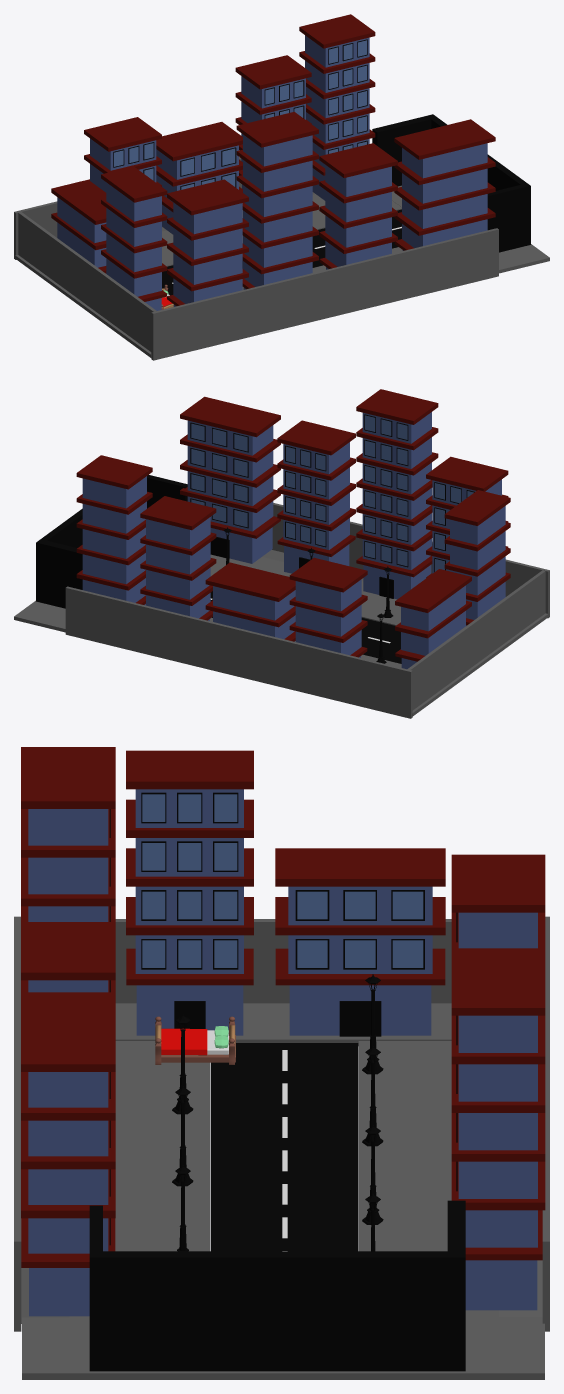
The model's file is street.fbx.
The picture shows the model from 3 angles, top to bottom: view 1: azimuth 30°, elevation 25°; view 2: azimuth 150°, elevation 25°; view 3: azimuth 270°, elevation 25°; orthographic projection. The views are drawn at different scales.
Parts seen in each view (by area): view 1: road.006, Plane.015, Plane.011, Plane.008, Plane.017, Plane.013, Plane.024, road.005, Plane.004, Plane.019, Plane.003, Plane.006 (+6 smaller); view 2: road.007, Plane.015, Plane.011, Plane.008, Plane.013, Plane.003, road.005, Plane.006, Plane.024, Plane.004, Plane.026, Plane.019 (+9 smaller); view 3: Plane.019, road, Plane.024, Plane.008, Plane.011, Plane.026, road.001, road.002, Plane.015, road.003, Plane.025, Plane.006 (+11 smaller).
Part boxes in pixels (<box>): road.006: <box>151,228,498,360</box>; Plane.015: <box>236,111,318,286</box>; Plane.011: <box>394,119,495,248</box>; Plane.008: <box>299,14,375,168</box>; Plane.017: <box>167,179,248,303</box>; Plane.013: <box>319,143,397,266</box>; Plane.024: <box>101,166,167,296</box>; road.005: <box>18,211,156,351</box>; Plane.004: <box>156,122,242,202</box>; Plane.019: <box>372,114,530,252</box>; Plane.003: <box>235,55,311,170</box>; Plane.006: <box>84,117,161,196</box>; road.007: <box>65,586,412,718</box>; Plane.015: <box>356,389,438,570</box>; Plane.011: <box>180,396,280,531</box>; Plane.008: <box>76,455,152,602</box>; Plane.013: <box>277,420,355,549</box>; Plane.003: <box>140,496,216,618</box>; road.005: <box>407,570,545,710</box>; Plane.006: <box>289,557,367,655</box>; Plane.024: <box>444,490,510,619</box>; Plane.004: <box>205,562,295,638</box>; Plane.026: <box>395,569,471,655</box>; Plane.019: <box>36,475,187,608</box>; Plane.019: <box>89,1200,465,1371</box>; road: <box>210,1043,358,1251</box>; Plane.024: <box>126,750,253,973</box>; Plane.008: <box>451,959,545,1247</box>; Plane.011: <box>21,992,115,1253</box>; Plane.026: <box>275,848,445,973</box>; road.001: <box>358,1041,542,1317</box>; road.002: <box>21,1041,209,1323</box>; Plane.015: <box>21,747,115,921</box>; road.003: <box>22,1317,544,1379</box>; Plane.025: <box>275,948,445,1036</box>; Plane.006: <box>451,854,545,948</box>.
Size of the model in its own units: 6539 by 2955 by 3952.
